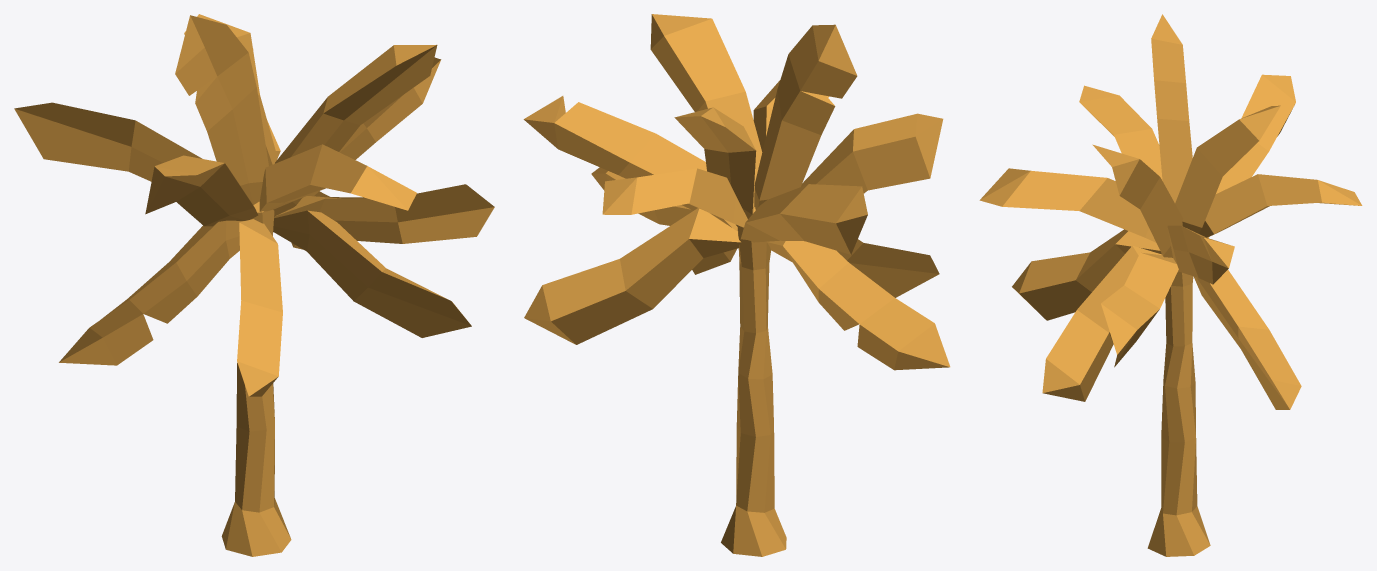
Rendered from palm-round.glb.
3 renders of one model, left to right at view 1: azimuth 30°, elevation 25°; view 2: azimuth 150°, elevation 25°; view 3: azimuth 270°, elevation 25°, orthographic. The views are drawn at different scales.
Parts seen in each view (by area): view 1: palm-round; view 2: palm-round; view 3: palm-round.
Part boxes in pixels (x1,y1,x2,y2): palm-round: (14,14,494,556); palm-round: (523,14,950,556); palm-round: (979,14,1362,556).
Size of the model in its own units: 3.73 by 4.75 by 3.32.
